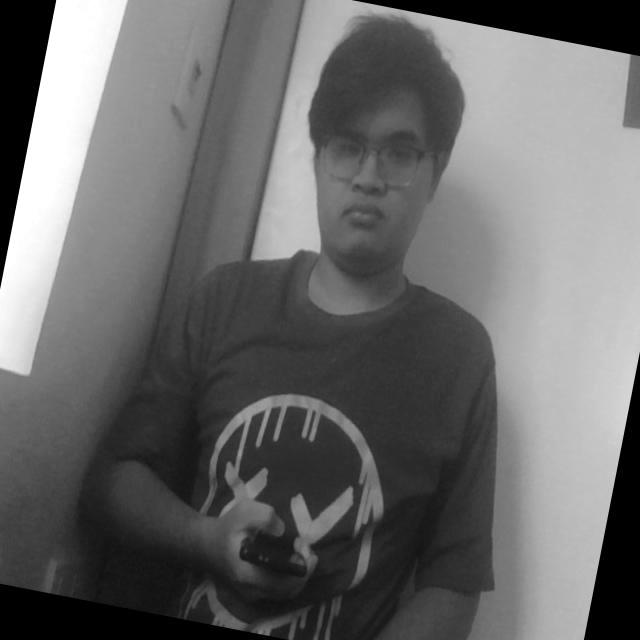phone: (219, 507, 328, 608)
